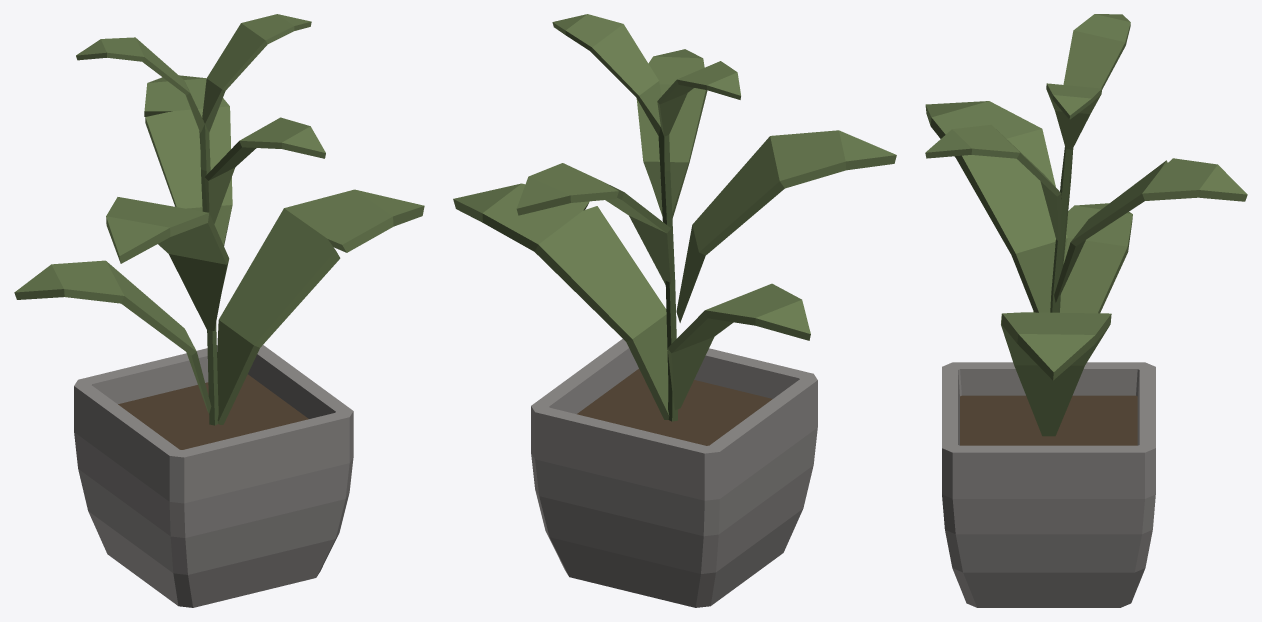
File: SM_Props_Interior_Plant_Small_02.fbx
3 views of the same model, side by side, from view 1: azimuth 30°, elevation 25°; view 2: azimuth 150°, elevation 25°; view 3: azimuth 270°, elevation 25° (orthographic). The views are drawn at different scales.
Visible parts, largest first — view 1: SM_Props_Interior_Plant_Small_02; view 2: SM_Props_Interior_Plant_Small_02; view 3: SM_Props_Interior_Plant_Small_02.
Boxes of the visible parts, x1,y1,x2,y2 form: SM_Props_Interior_Plant_Small_02: (14,14,424,607); SM_Props_Interior_Plant_Small_02: (453,14,896,607); SM_Props_Interior_Plant_Small_02: (925,14,1247,607).
Bounding box in the file's own units: 44.56 × 57.8 × 32.57.
